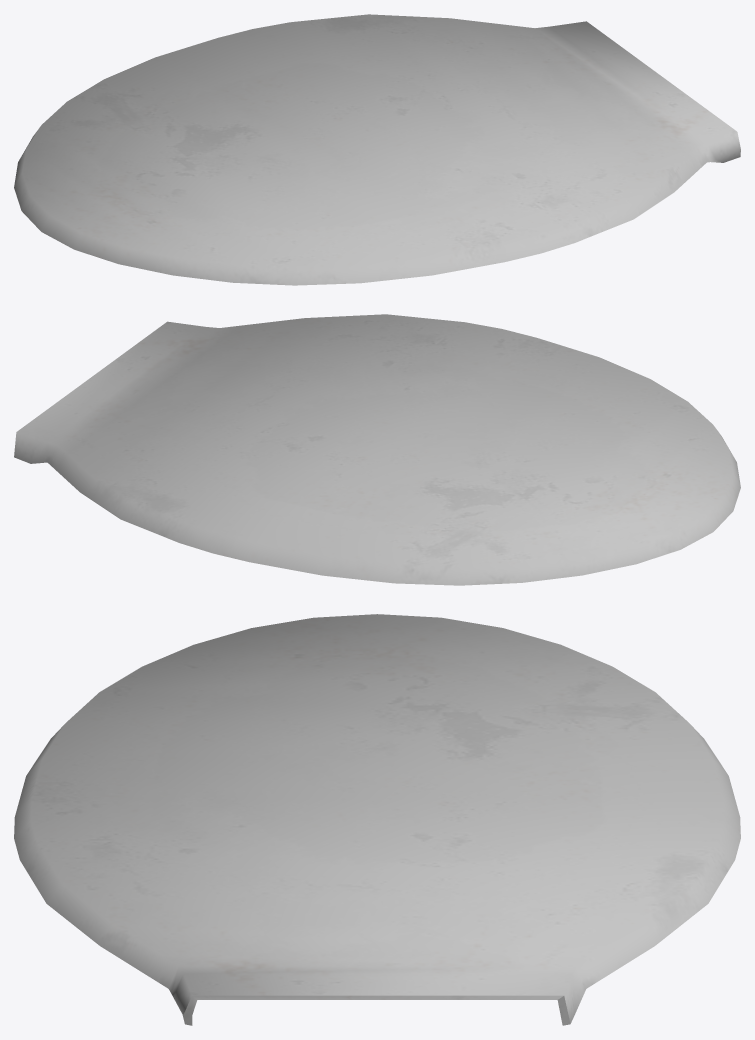
Rendered from SM_Toilet_A1_Top.fbx.
3 views of the same model, one above another, from view 1: azimuth 30°, elevation 25°; view 2: azimuth 150°, elevation 25°; view 3: azimuth 270°, elevation 25° (orthographic). The views are drawn at different scales.
Parts seen in each view (by area): view 1: SM_Toilet_A1_Top; view 2: SM_Toilet_A1_Top; view 3: SM_Toilet_A1_Top.
Part boxes in pixels (<box>): SM_Toilet_A1_Top: <box>14,14,740,285</box>; SM_Toilet_A1_Top: <box>14,314,740,585</box>; SM_Toilet_A1_Top: <box>14,614,740,1025</box>.
Size of the model in its own units: 57.57 by 47.22 by 3.23.
Materials: 1 (1 with a texture image).
